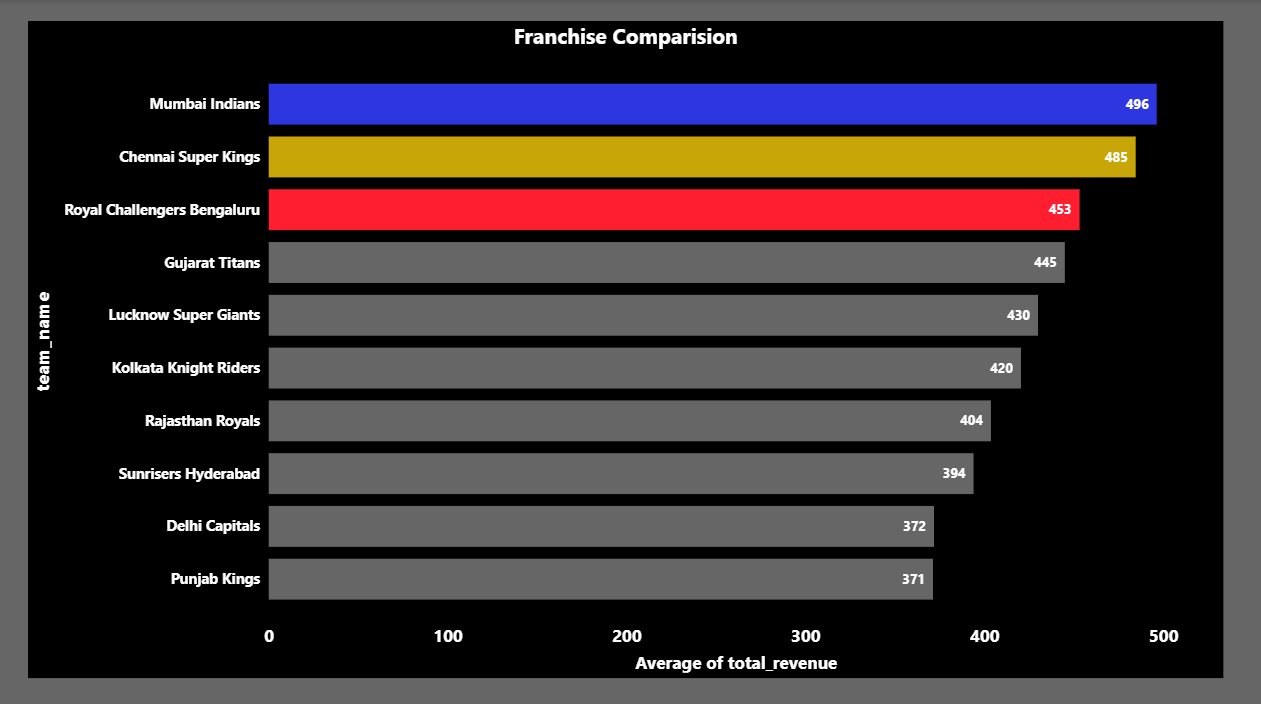

The dashboard page shown, as its layout file describes it:
{"tool":"powerbi","page":{"name":"Page 2","canvas":[1280,720],"ordinal":1},"visuals":[{"type":"clusteredBarChart","title":"Franchise Comparision","fields":{"Category":["public vw_team_season_analysis.team_name"],"Y":["Avg(public vw_team_season_analysis.total_revenue)"]},"box":[33.3,21.2,1206.8,663.2],"z":0}]}

Visuals, with their boxes in screenshot pixels (x1, y1, x2, y2), scaled from the page's 1280x720 canvas onto the 1261x704 screenshot:
"Franchise Comparision" clusteredBarChart: [left=33, top=21, right=1222, bottom=669]
